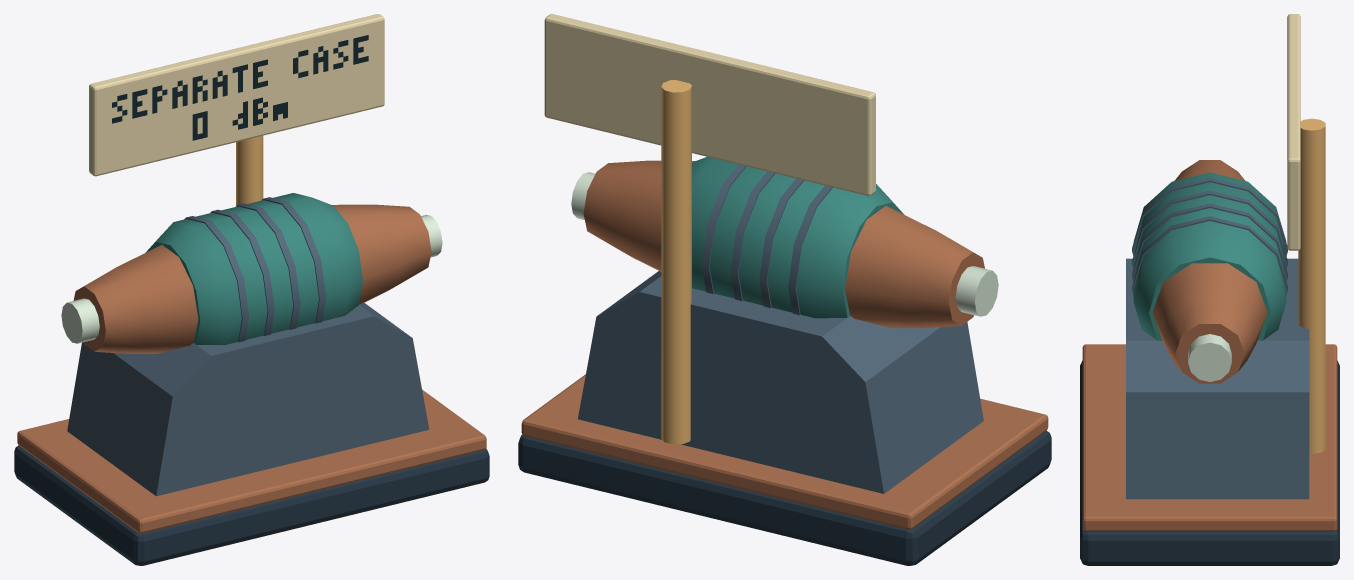
The picture shows the model from 3 angles, left to right: view 1: azimuth 30°, elevation 25°; view 2: azimuth 150°, elevation 25°; view 3: azimuth 270°, elevation 25°; orthographic projection. The views are drawn at different scales.
Parts seen in each view (by area): view 1: PR056 enamel and hardware; view 2: PR056 enamel and hardware; view 3: PR056 enamel and hardware.
Boxes of the visible parts, box(x1,y1,x2,y2) form: PR056 enamel and hardware: box(14, 14, 489, 565); PR056 enamel and hardware: box(518, 14, 1051, 565); PR056 enamel and hardware: box(1080, 14, 1339, 565).
Bounding box in the file's own units: 0.85 × 0.8905 × 0.5161.
